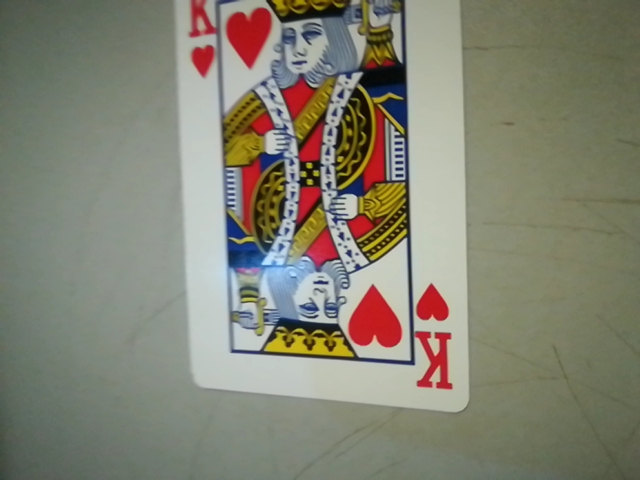hx k: (408, 276, 466, 399), (174, 0, 225, 78)
